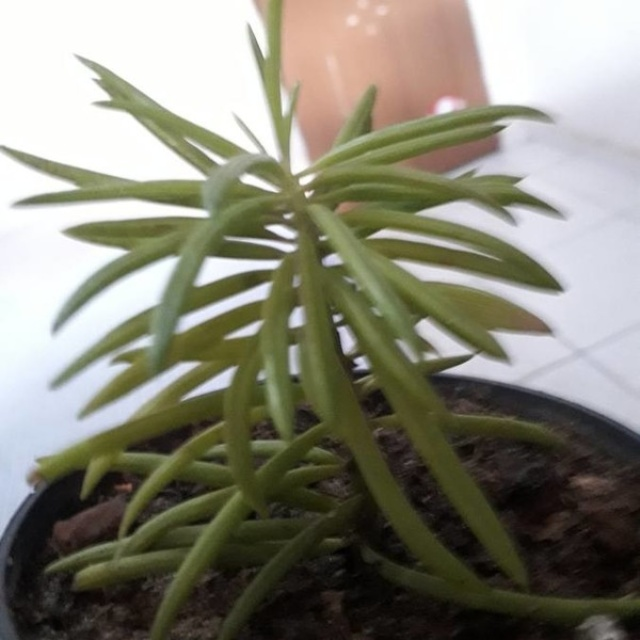obstacle: (38, 46, 610, 624)
